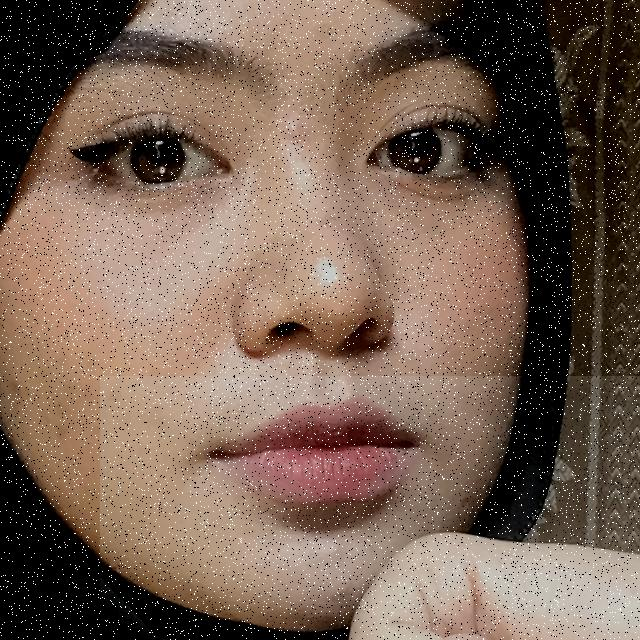sedih: (100, 376, 640, 640)
